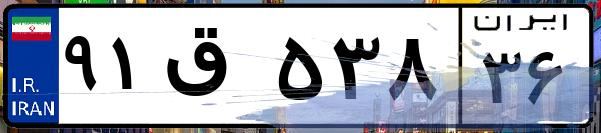1: (110, 28, 158, 98)
3: (330, 28, 385, 110), (475, 38, 525, 113)
5: (270, 28, 330, 110)
6: (525, 38, 570, 115)
8: (385, 28, 445, 110)
9: (57, 26, 110, 100)
ق: (158, 20, 270, 120)
